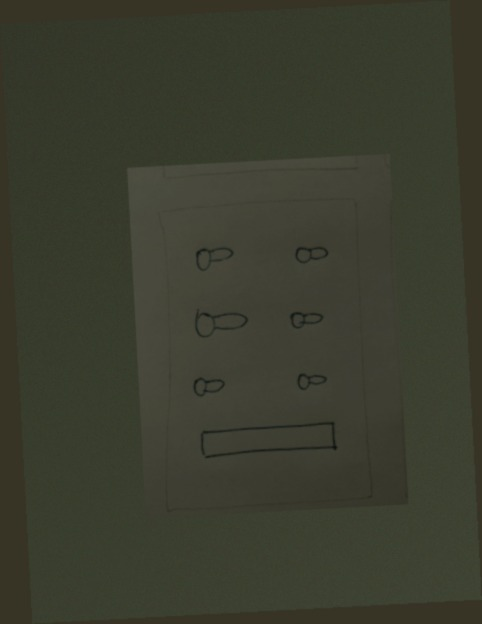switch: (190, 302, 250, 344), (189, 240, 238, 279), (186, 368, 230, 404), (290, 239, 332, 271), (289, 364, 331, 396), (287, 304, 328, 335)
text_input: (195, 418, 344, 466)
